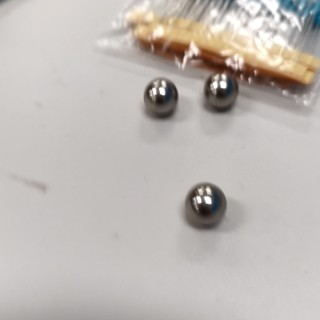ironball: (170, 167, 233, 236), (140, 68, 187, 119), (203, 59, 242, 118)
